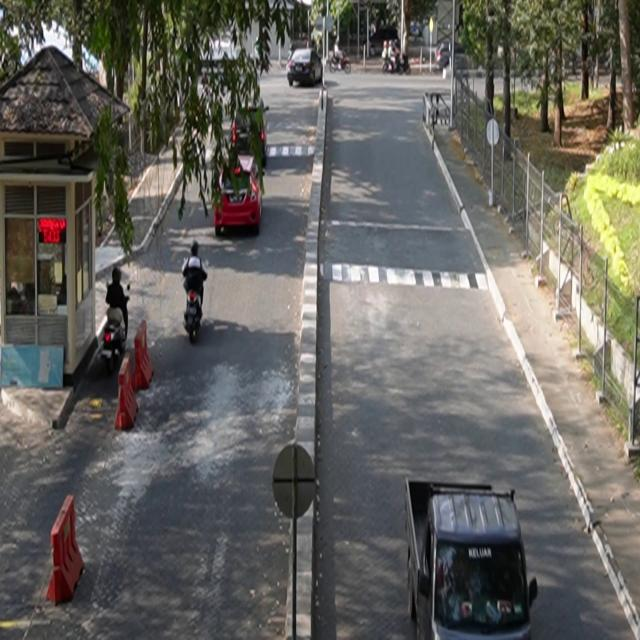car: (405, 478, 539, 640), (215, 154, 264, 237), (287, 49, 324, 88)
